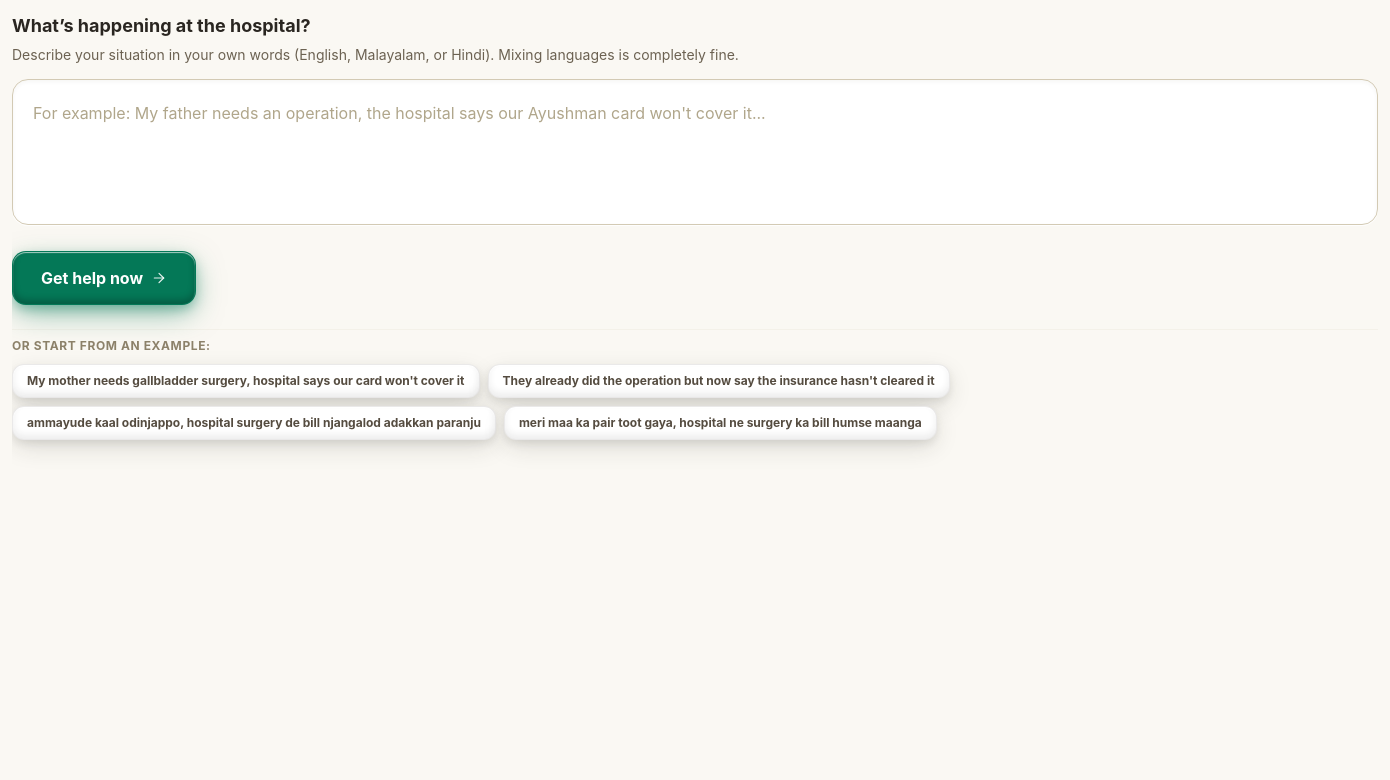
it: IntakeForm › on an ApiError with fallback guidance, shows both the error and the fallback text — never silently drops the fallback
The width and height of the screenshot is (1390, 780).
Type "A description long enough to pass client-side validation." into the text box labelled "What’s happening at the hospital?" at (695, 152), box top-left (12, 79), bottom-right (1378, 225)
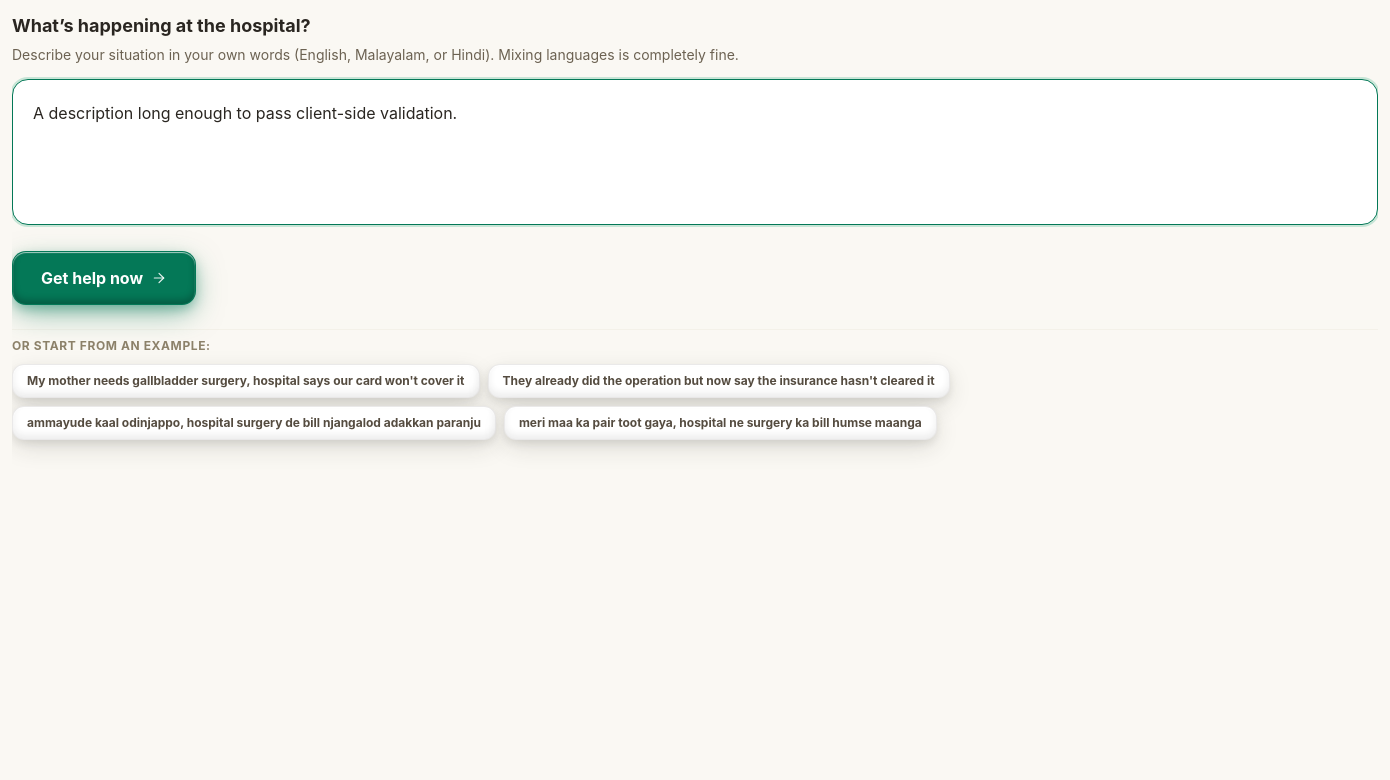
Click the button "Get help now" at (104, 278), box top-left (12, 251), bottom-right (196, 305)
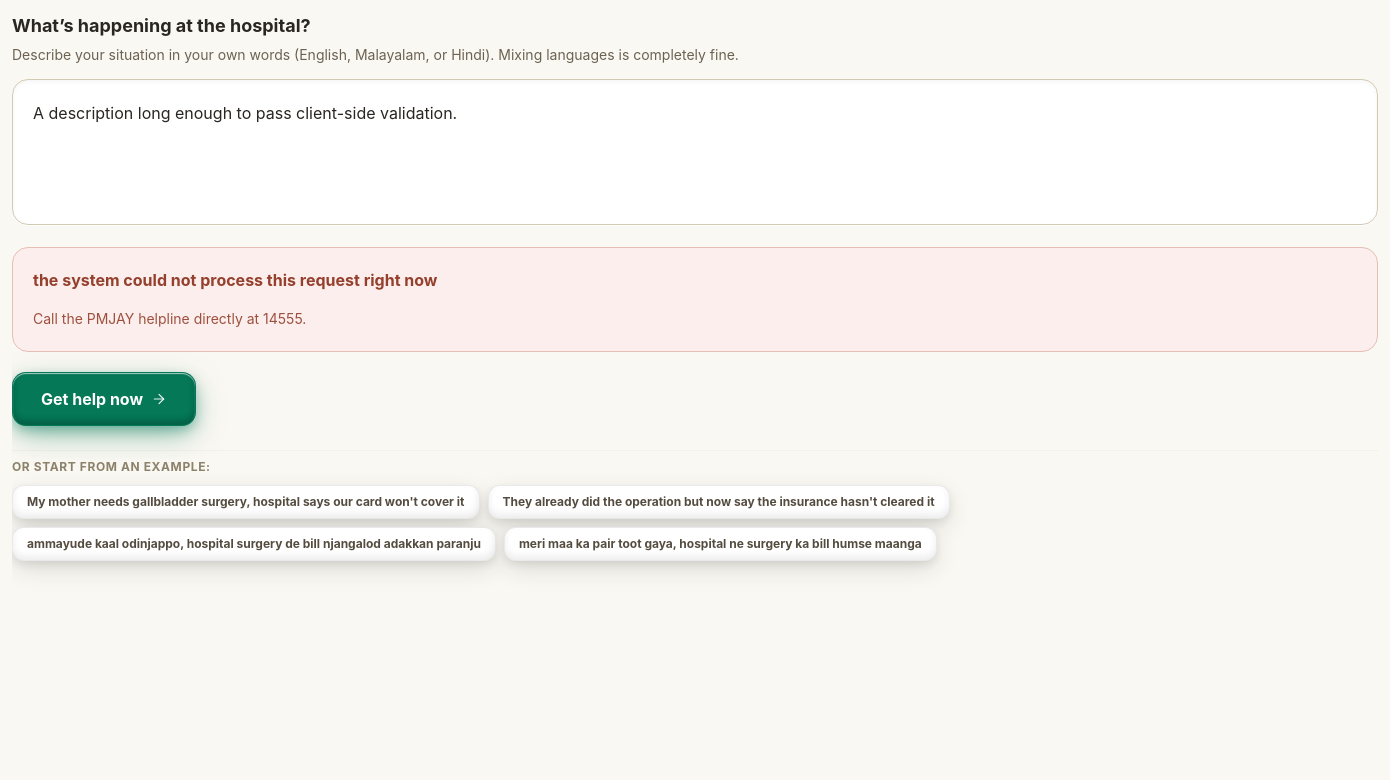
Check: the text "the system could not process this request right now" is shown, box top-left (33, 270), bottom-right (438, 290)
Check: the text "Call the PMJAY helpline directly at 14555." is shown, box top-left (33, 310), bottom-right (306, 327)
